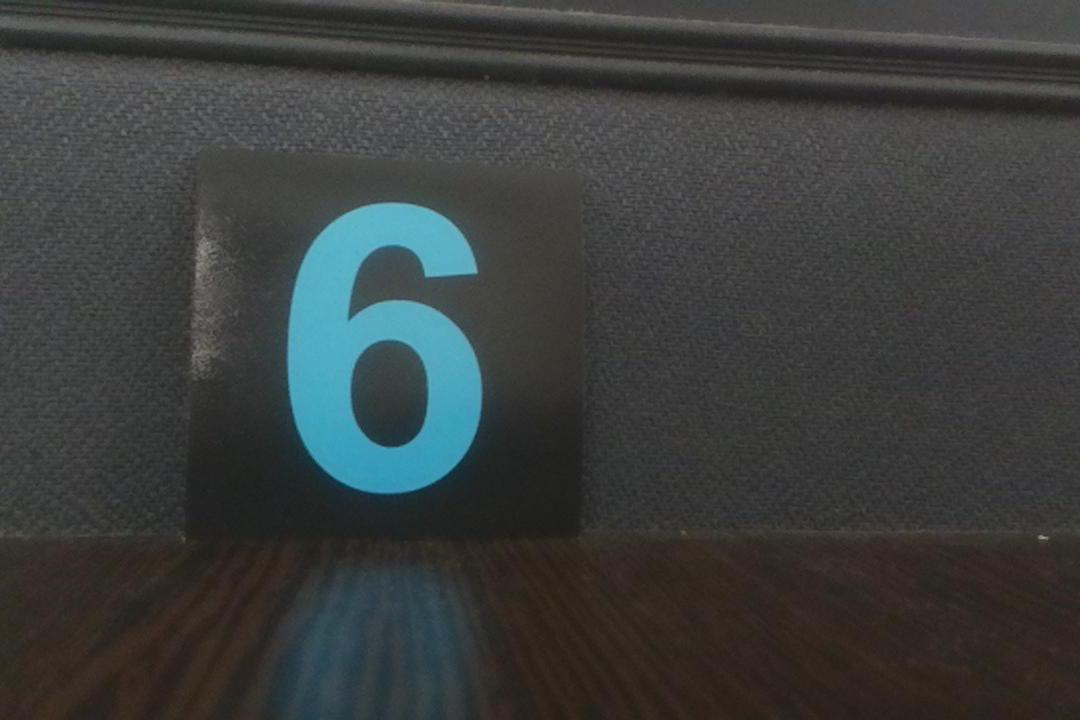six: (195, 150, 582, 528)
